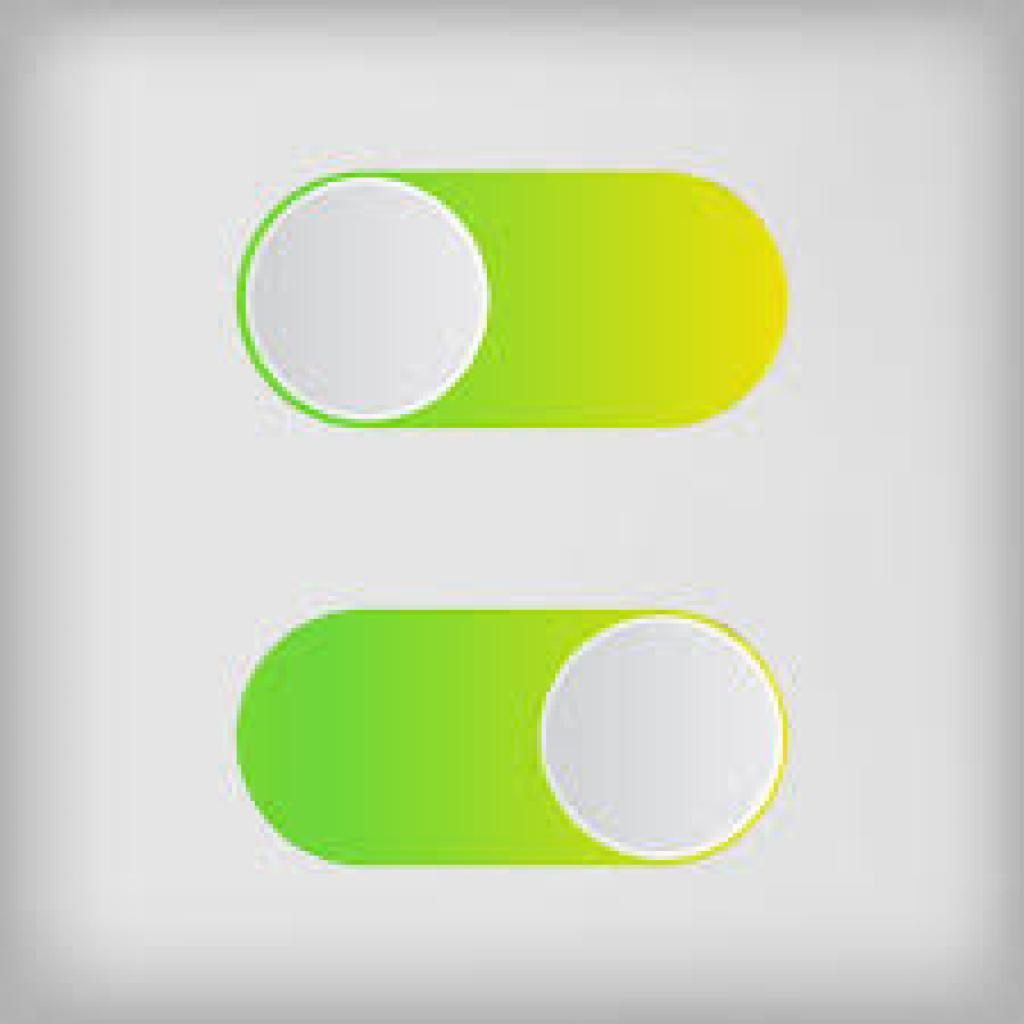switch: (240, 173, 793, 431), (235, 615, 790, 861)
